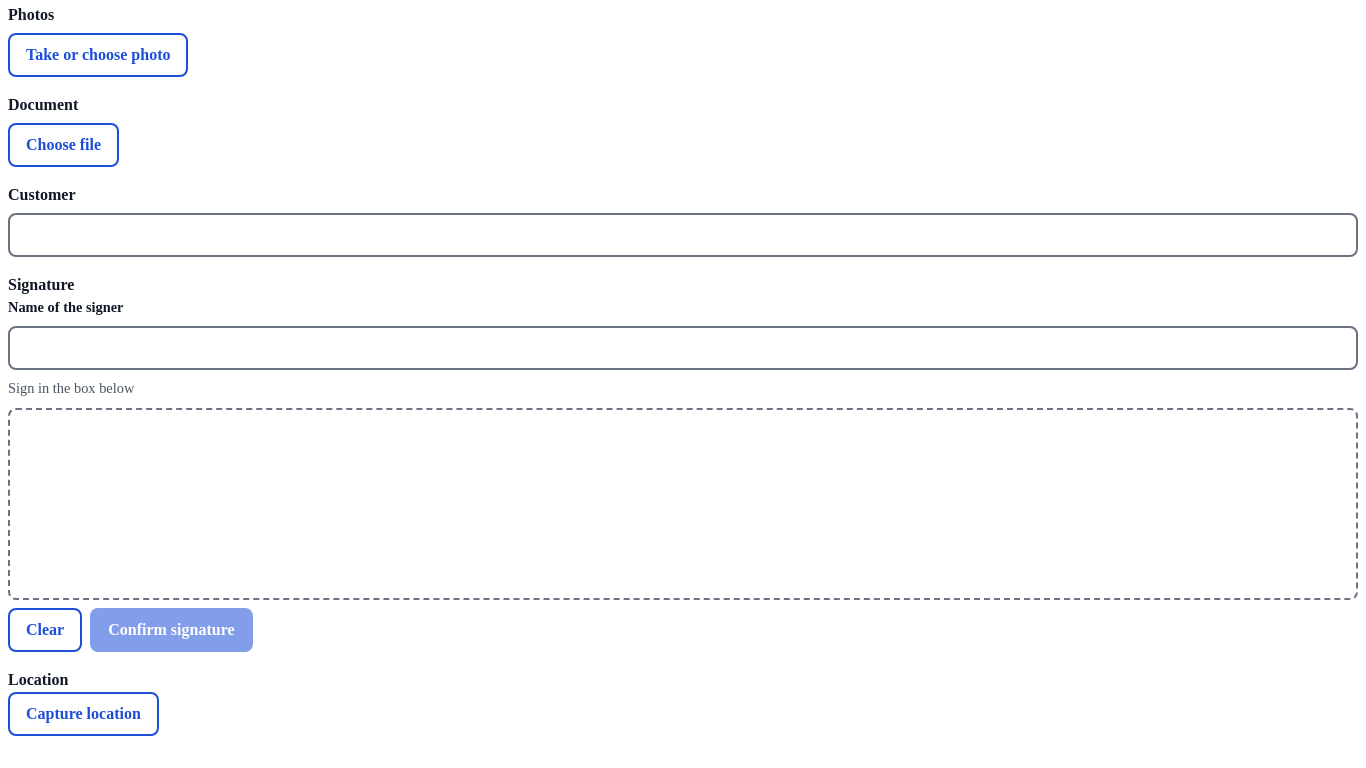
it: location › reports error code 2
This screenshot has width=1366, height=768.
(page scrolled)
Click the button "Capture location".
click(83, 714)  # box [8, 692, 159, 736]
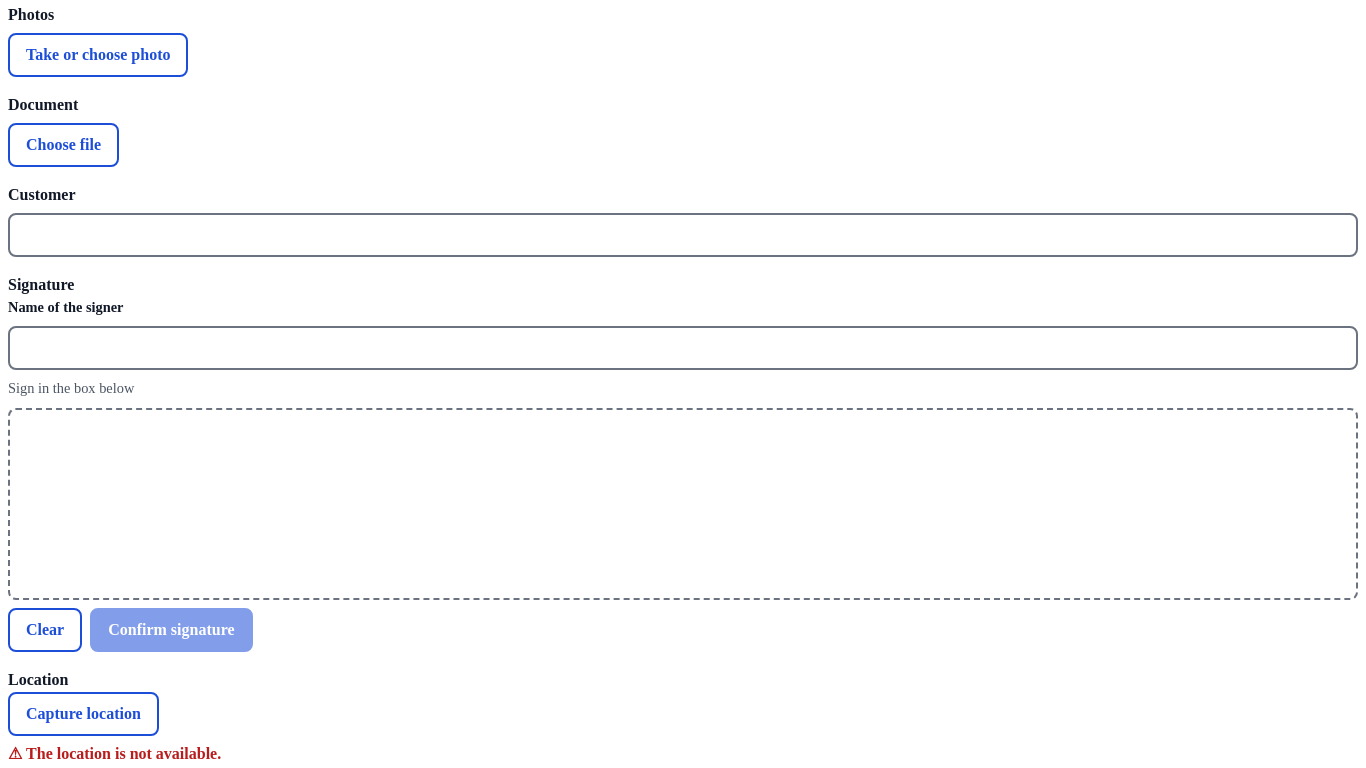
Expected: the message reads "The location is not available.", [26, 745, 221, 762]
